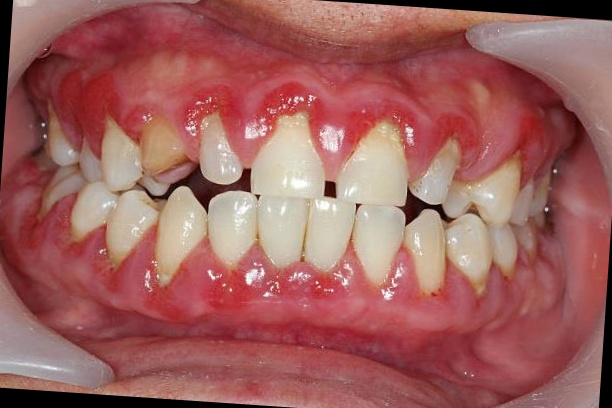Gingivitis: (62, 69, 113, 148), (341, 93, 421, 143), (256, 75, 314, 125), (427, 108, 486, 151), (180, 78, 236, 123), (133, 263, 179, 313), (202, 269, 257, 307), (123, 95, 150, 142), (307, 273, 339, 304)
